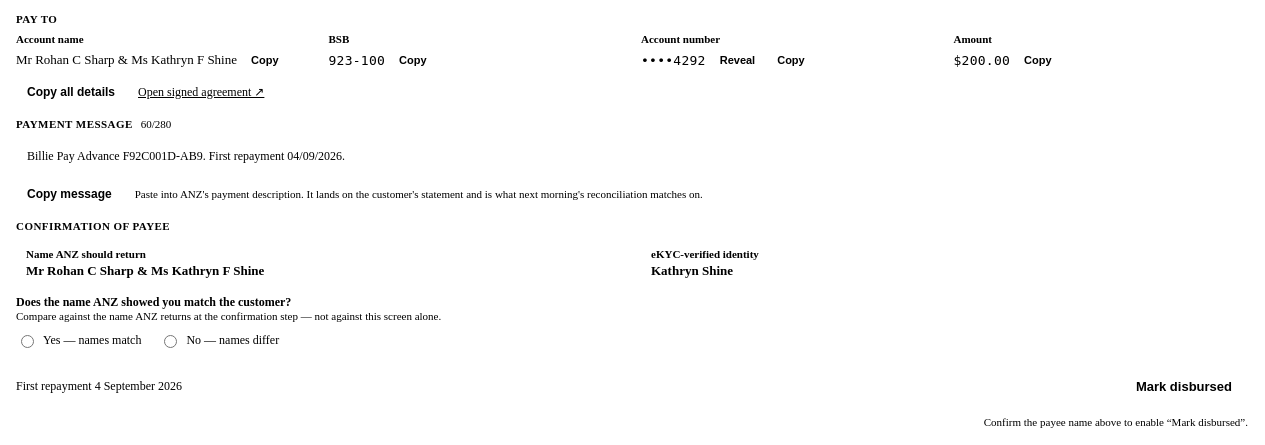
DisbursementPaymentPanel › reveals the account number on explicit action and audits it
Check: the button with test id "panel-disburse" is shown, box [1120,370,1248,402]
Click the button "Reveal". click: (737, 60)
box: [712,48,763,72]
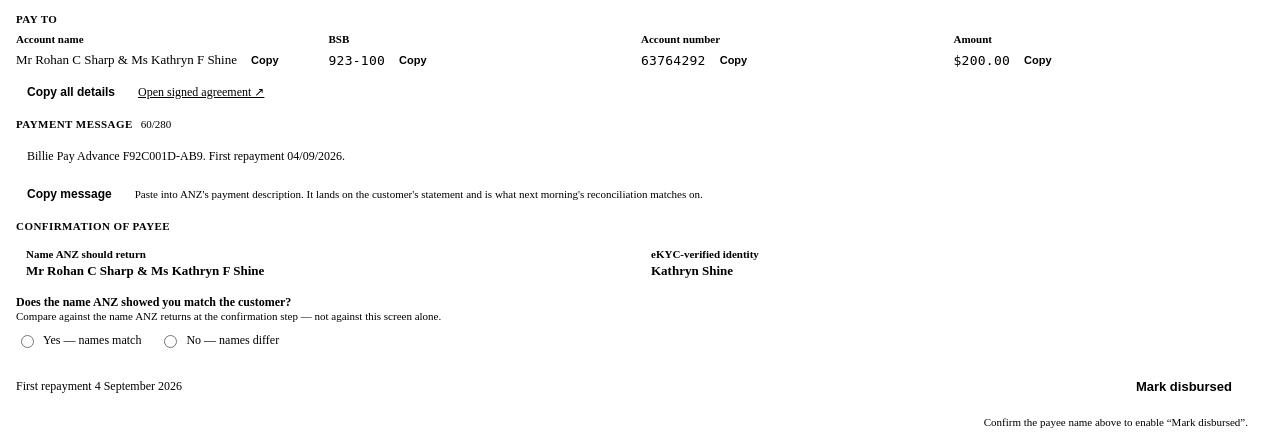
Check: the text with test id "payout-value-accountNumber" reads "63764292", box [641,52,706,68]
